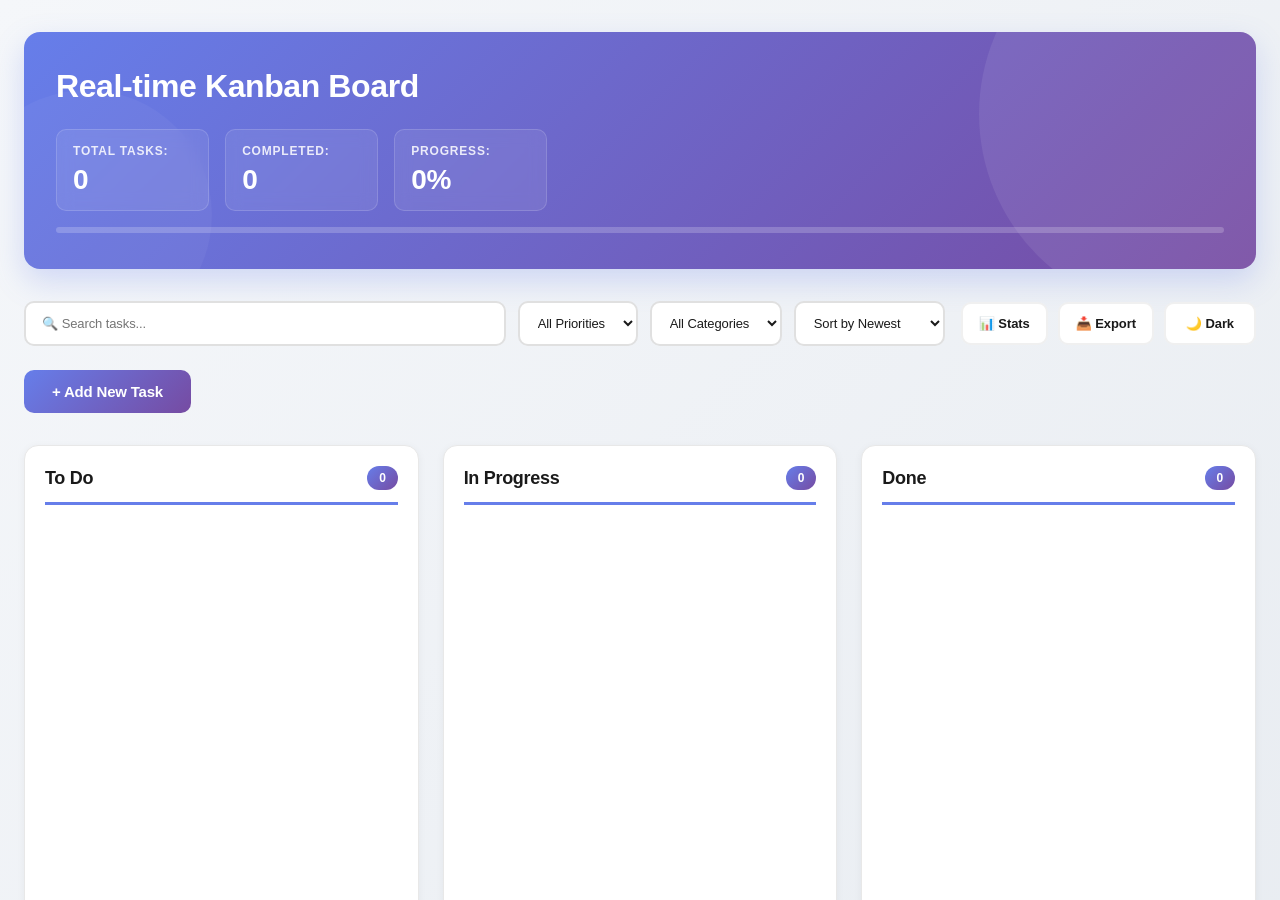
Test: KanbanBoard Unit Tests › shows task form when add task button is clicked
What coordinates should you click on to do the following:
click the button "+ Add New Task"
I would click on:
 (108, 392)
Its box is [24,370,191,413].
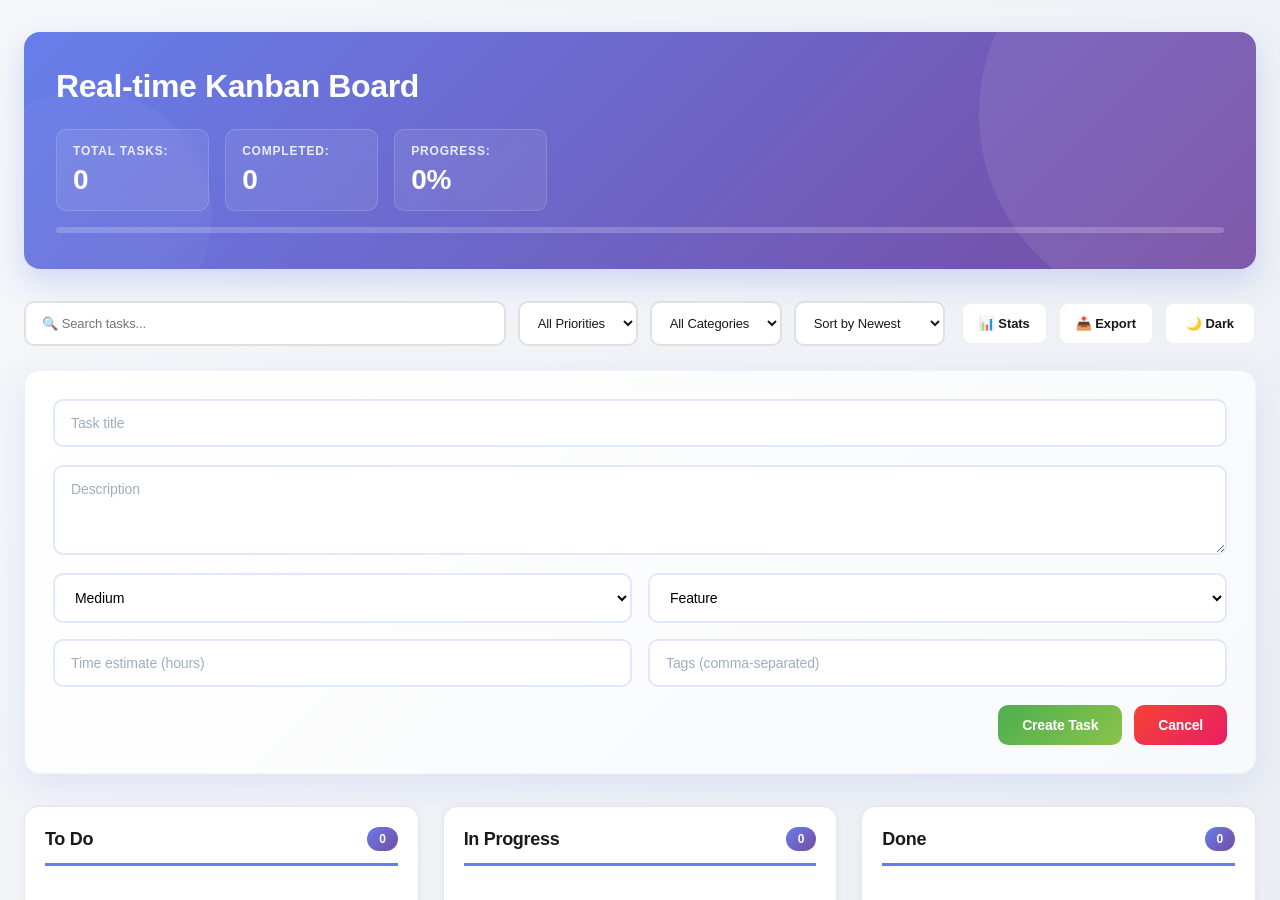
Check: the field with placeholder "Task title" is shown, box [53,399,1227,447]
